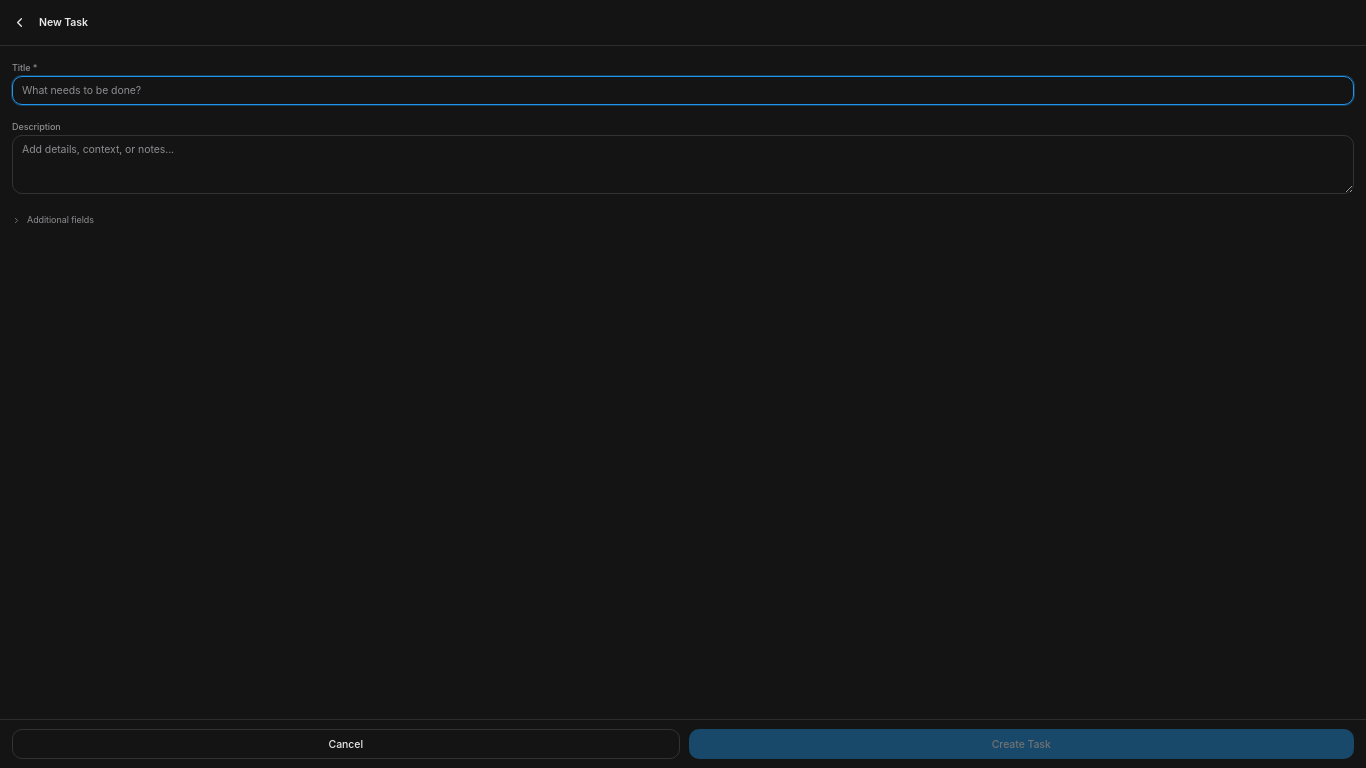
TaskFormPage — Create mode › shows additional fields when toggled
Click the button "Additional fields" at (53, 220), box top-left (12, 211), bottom-right (94, 229)
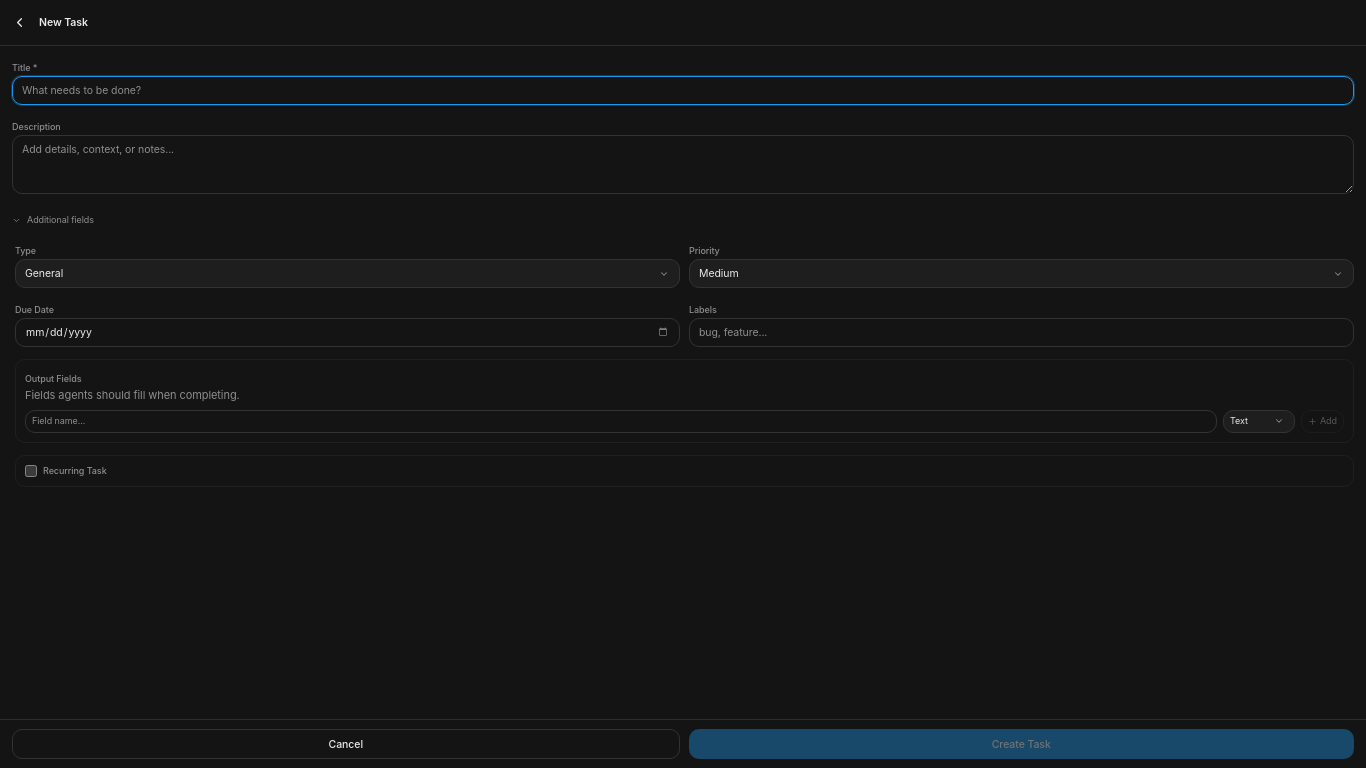
Expected: the text "Output Fields" is shown, top-left (25, 373), bottom-right (81, 384)
Expected: the text "Recurring Task" is shown, top-left (43, 464), bottom-right (107, 476)
